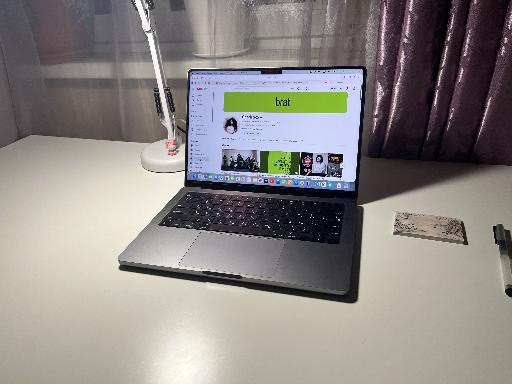youtube: (191, 82, 355, 179)
